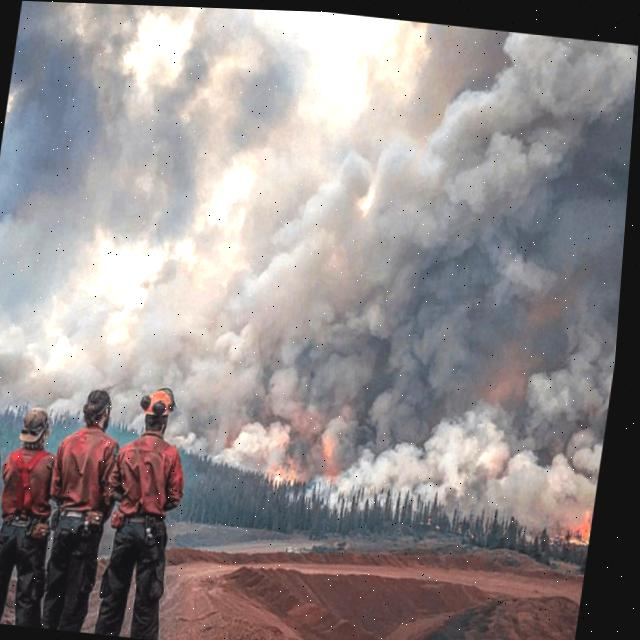smoke: (0, 1, 639, 437), (190, 391, 610, 525)
